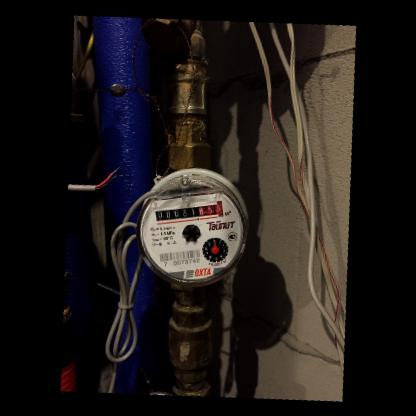digital_screen: (152, 205, 197, 222)
